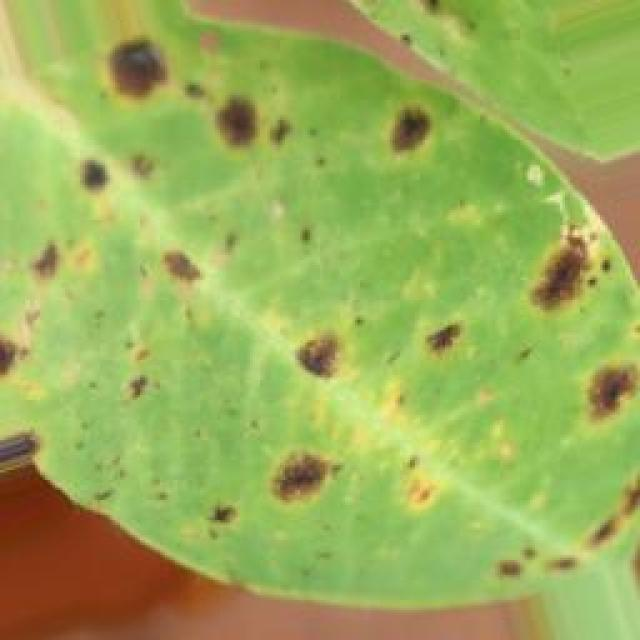Yellowish: (0, 17, 640, 602)
